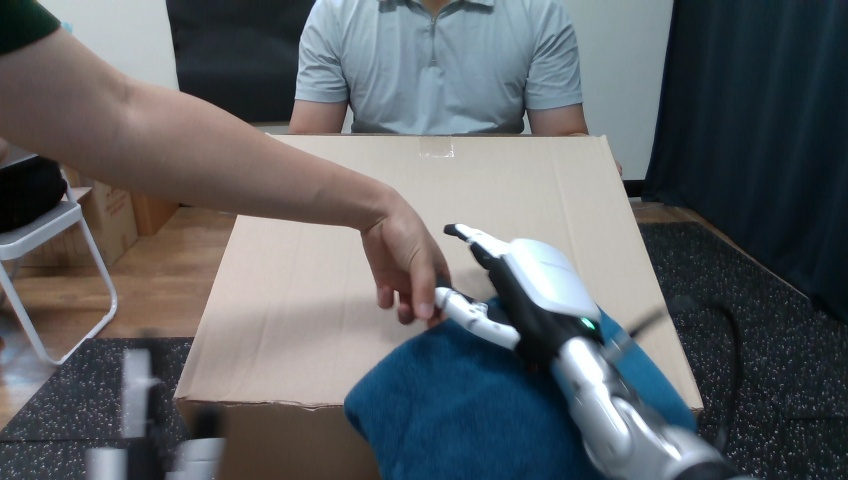left robot arm: (436, 224, 736, 478)
left robot hand: (436, 224, 736, 478)
right robot arm: (436, 224, 736, 478)
right robot hand: (436, 224, 736, 478), (361, 202, 450, 323)
